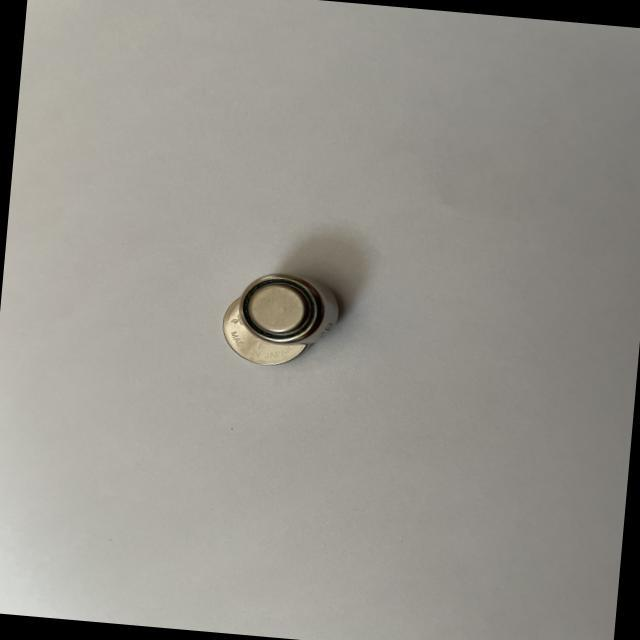COIN: (238, 268, 342, 348), (218, 288, 314, 368)
